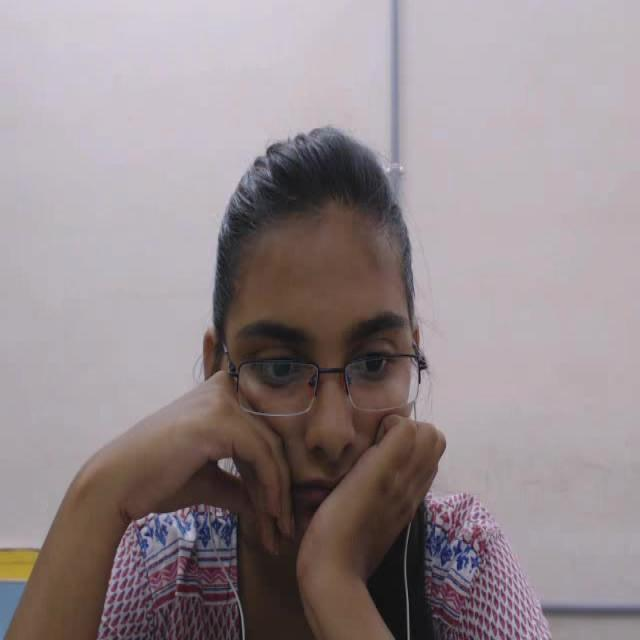Bored: (180, 113, 460, 640)
